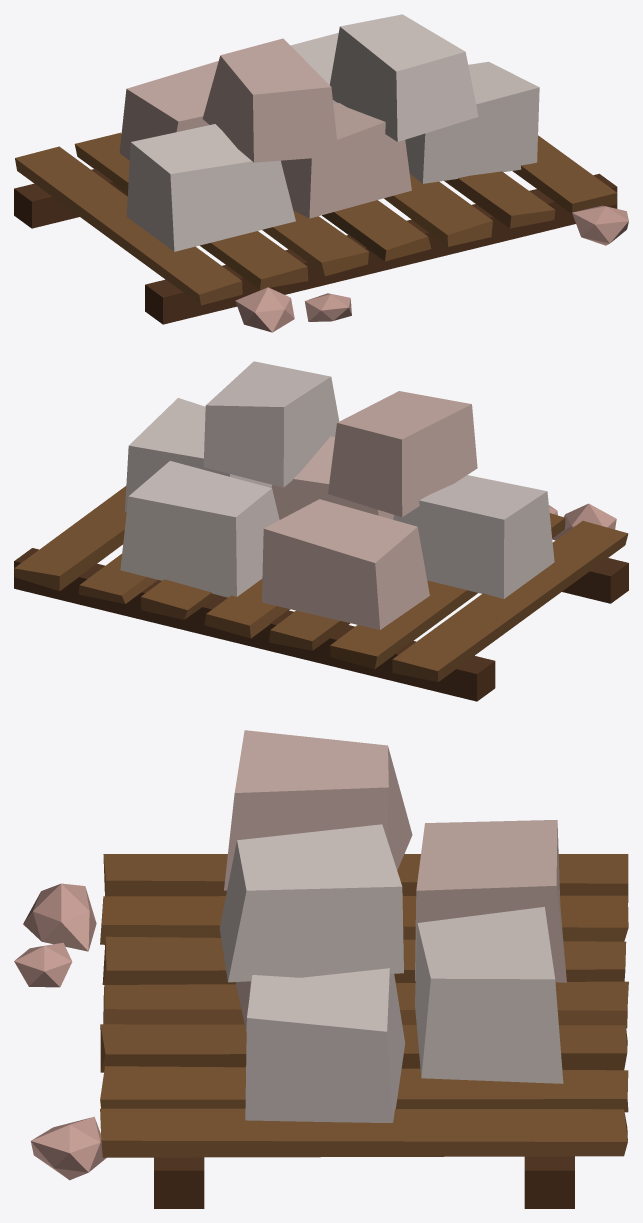
The model's file is sel.glb.
3 views of the same model, one above another, from view 1: azimuth 30°, elevation 25°; view 2: azimuth 150°, elevation 25°; view 3: azimuth 270°, elevation 25° (orthographic). The views are drawn at different scales.
Parts seen in each view (by area): view 1: sel; view 2: sel; view 3: sel.
Part boxes in pixels (x1=…): sel: x1=14, y1=14, x2=628, y2=332; sel: x1=14, y1=361, x2=628, y2=701; sel: x1=14, y1=730, x2=628, y2=1208.
Bounding box in the file's own units: 0.88 × 0.3269 × 0.7301.
